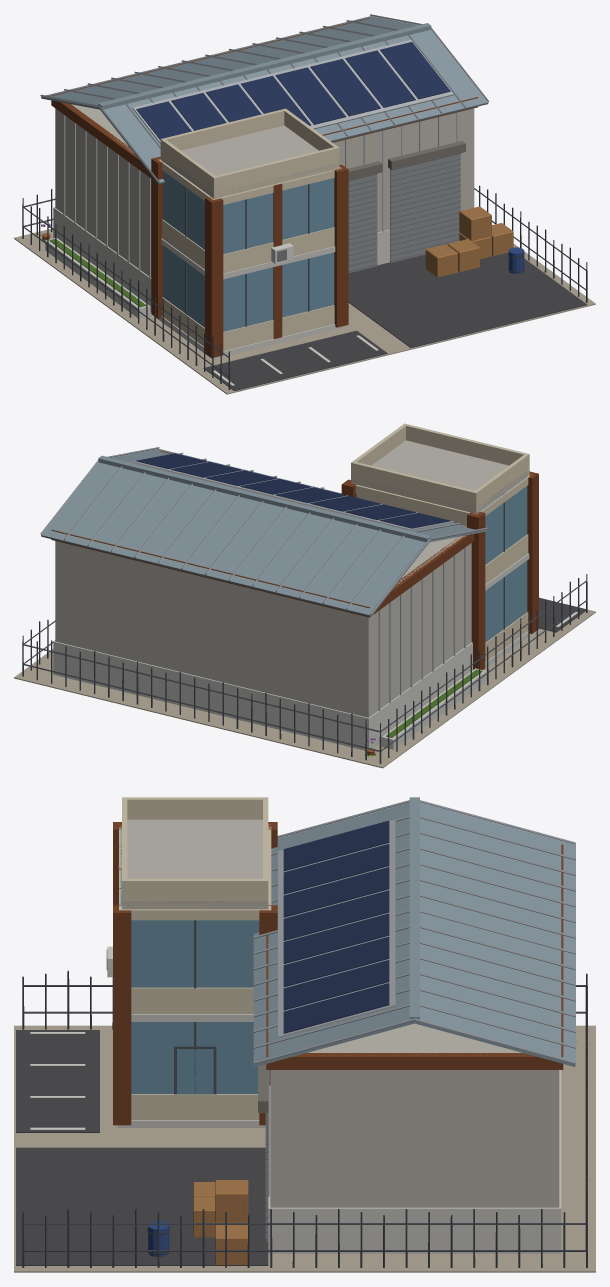
Rendered from factory_1.glb.
3 views of the same model, one above another, from view 1: azimuth 30°, elevation 25°; view 2: azimuth 150°, elevation 25°; view 3: azimuth 270°, elevation 25° (orthographic). The views are drawn at different scales.
Parts seen in each view (by area): view 1: body; view 2: body; view 3: body.
Part boxes in pixels (x1=…): body: x1=14, y1=14, x2=595, y2=394; body: x1=14, y1=423, x2=595, y2=768; body: x1=14, y1=797, x2=595, y2=1272.
Size of the model in its own units: 15.9 by 7.7 by 15.9.
